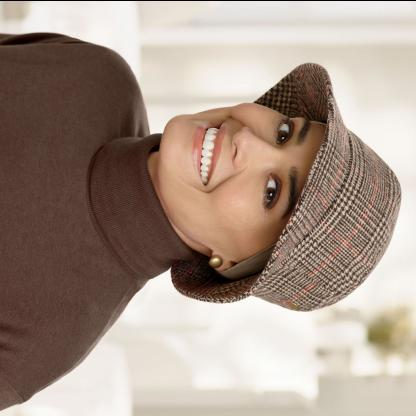hat: (161, 58, 403, 314)
